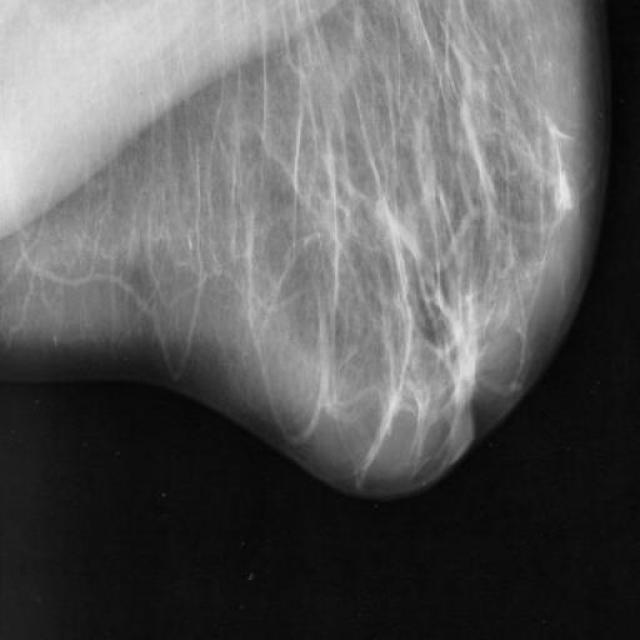cancer: (443, 301, 496, 411)
